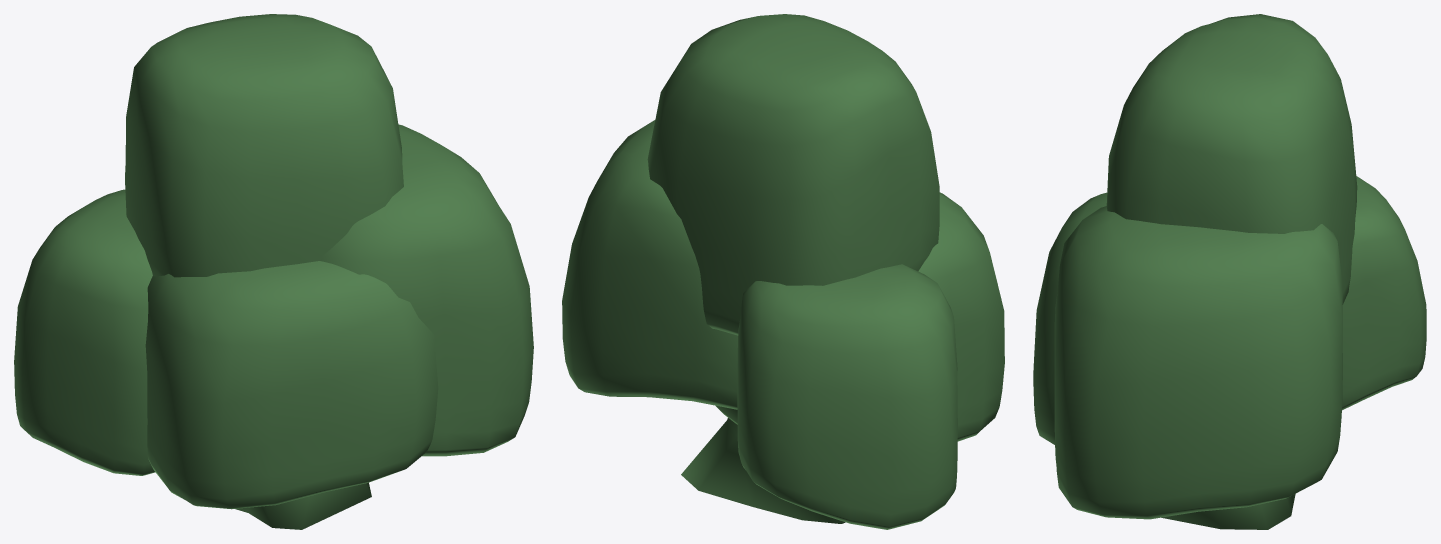
Rendered from bush2.glb.
3 views of the same model, side by side, from view 1: azimuth 30°, elevation 25°; view 2: azimuth 150°, elevation 25°; view 3: azimuth 270°, elevation 25° (orthographic). The views are drawn at different scales.
Parts seen in each view (by area): view 1: bush2; view 2: bush2; view 3: bush2.
Part boxes in pixels (box(x1,y1,x2,y2)): bush2: box(14, 14, 533, 529); bush2: box(562, 14, 1004, 529); bush2: box(1033, 14, 1426, 529).
Size of the model in its own units: 1.02 by 1.05 by 0.8632.
